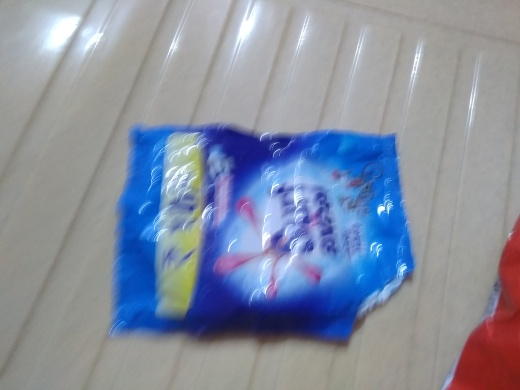surf: (109, 113, 445, 351)
